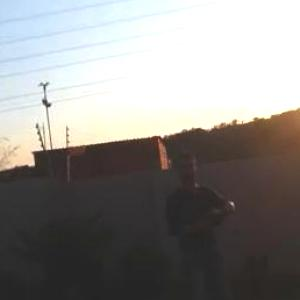follow: (158, 144, 238, 299)
